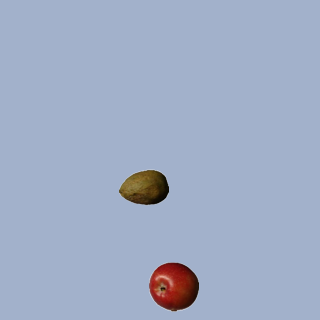Apple Braeburn: (148, 261, 198, 311)
Papaya: (118, 162, 168, 212)
